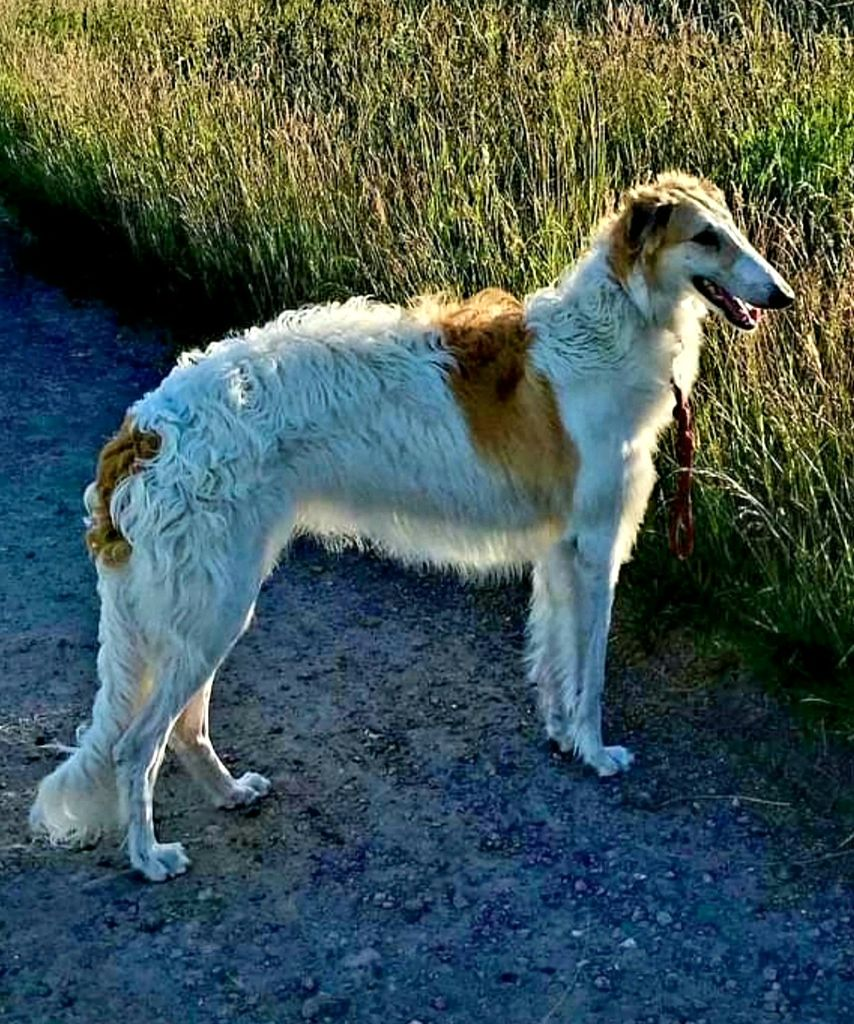borzoi: (22, 156, 817, 875)
